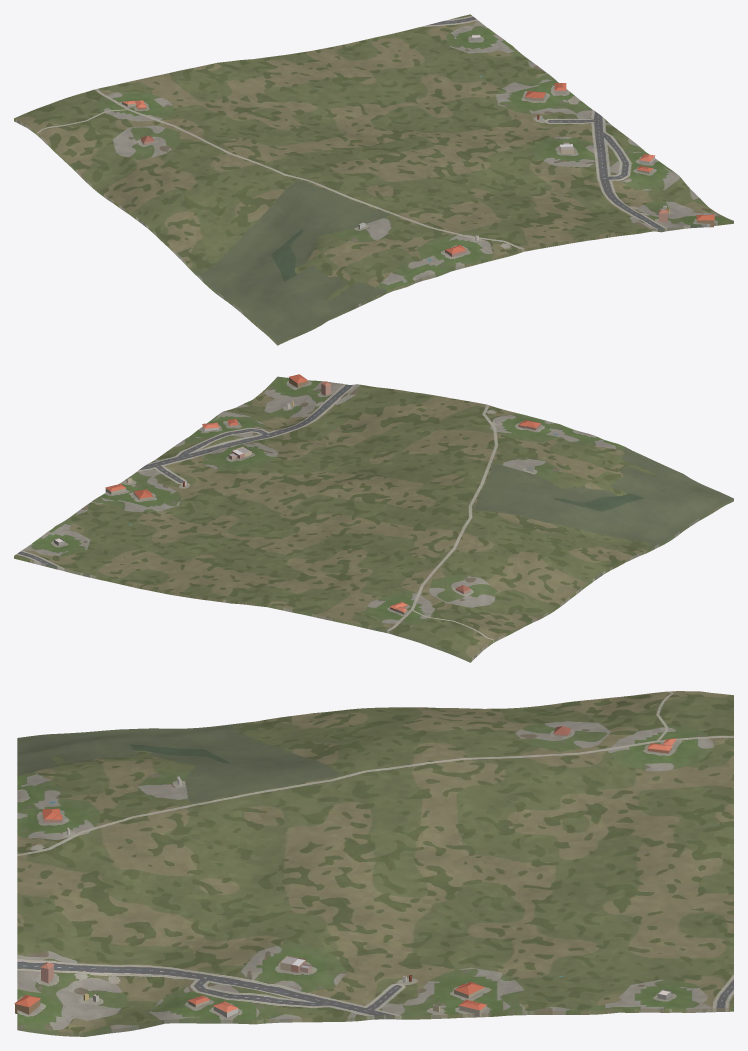
3 views of the same model, one above another, from view 1: azimuth 30°, elevation 25°; view 2: azimuth 150°, elevation 25°; view 3: azimuth 270°, elevation 25° (orthographic). The views are drawn at different scales.
Visible parts, largest first — view 1: terrain, buildings; view 2: terrain, buildings; view 3: terrain, buildings.
Part boxes in pixels (x1,y1,x2,y2): terrain: (14,14,733,345); buildings: (122,34,714,256); terrain: (14,376,733,662); buildings: (54,374,540,614); terrain: (17,691,733,1036); buildings: (14,726,676,1017).
Size of the model in its own units: 503 by 48.5 by 502.
2 materials, 1 textured.
